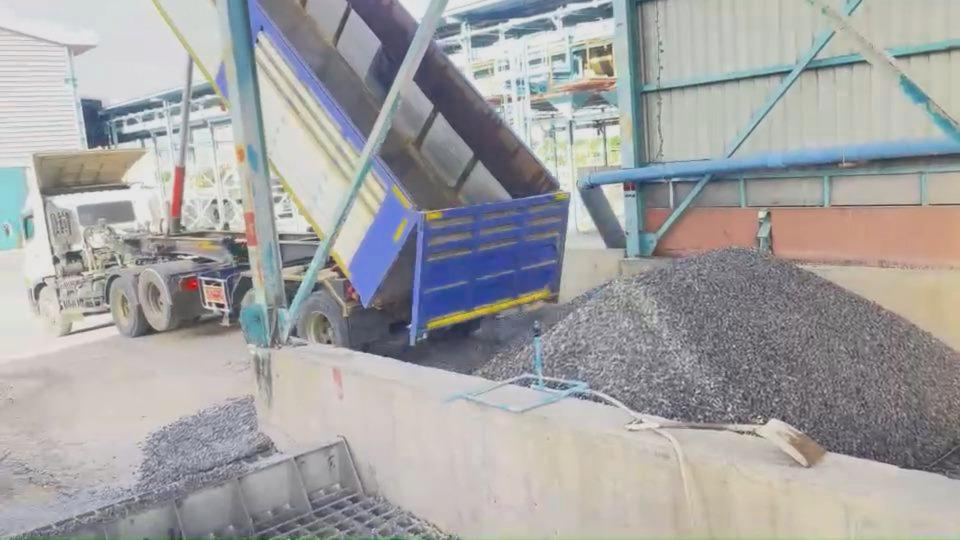gravel: (542, 248, 960, 467), (136, 396, 272, 492), (476, 339, 531, 379)
